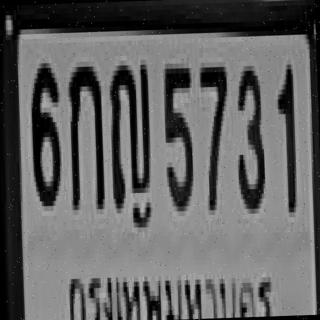A01: (66, 61, 103, 205)
A13: (107, 57, 150, 206)
N01: (275, 59, 296, 207)
N03: (233, 60, 264, 209)
N05: (161, 58, 194, 207)
N06: (28, 58, 61, 201)
N07: (198, 59, 229, 208)
